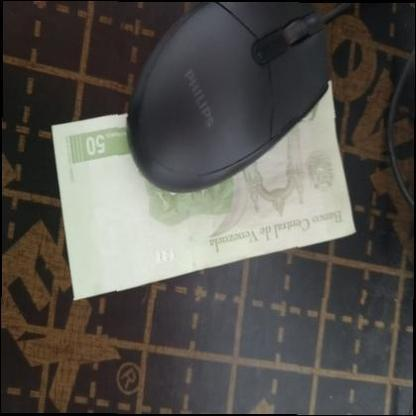fifty-back-vef: (49, 79, 356, 301)
